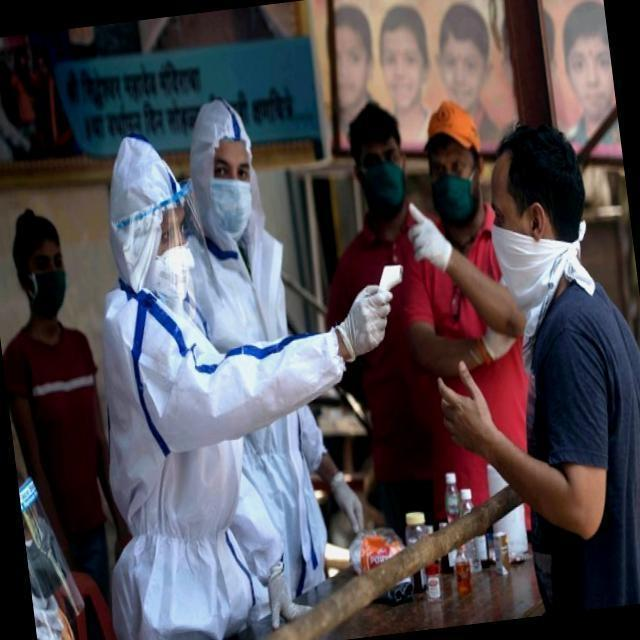apron: (328, 271, 408, 367), (397, 200, 457, 274), (254, 563, 302, 632), (334, 474, 372, 528), (478, 322, 510, 364)
gloves: (101, 132, 184, 202), (183, 90, 256, 148)
mask: (201, 170, 261, 242), (146, 233, 200, 302), (433, 179, 483, 230), (360, 158, 412, 205), (30, 262, 72, 312)
no_apron: (432, 351, 496, 457)
no_gloves: (506, 132, 604, 212), (0, 204, 54, 253), (424, 102, 476, 151), (350, 106, 393, 143)
